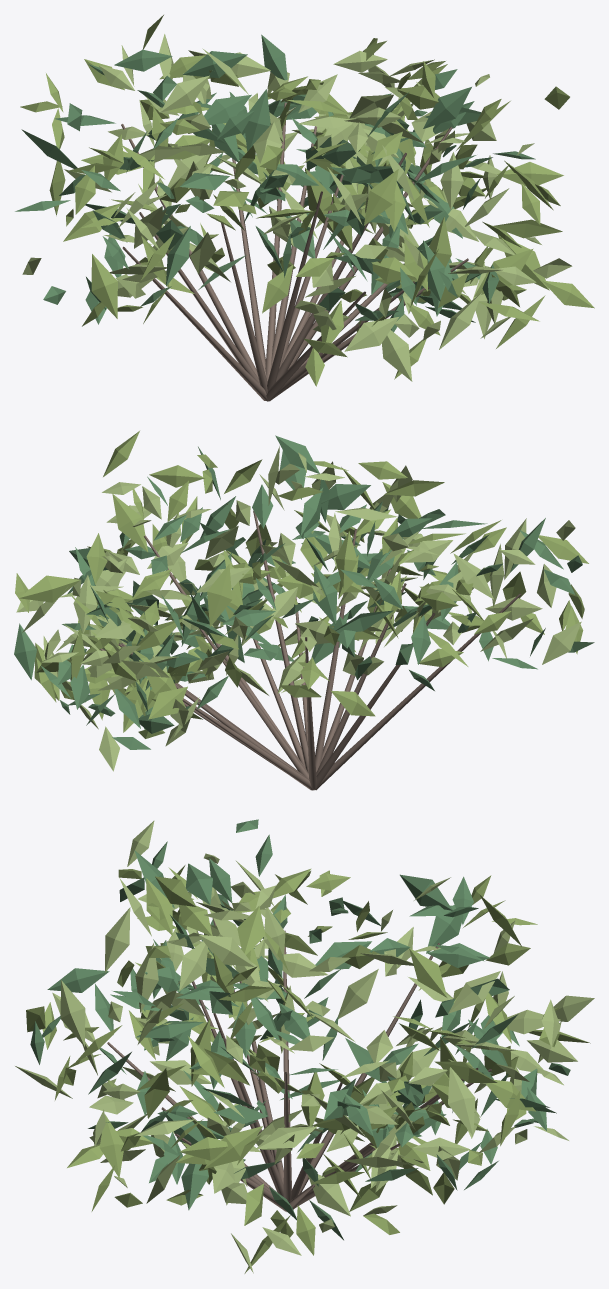
File: sakura_shrub_1.glb
3 renders of one model, top to bottom at view 1: azimuth 30°, elevation 25°; view 2: azimuth 150°, elevation 25°; view 3: azimuth 270°, elevation 25°, orthographic. The views are drawn at different scales.
Visible parts, largest first — view 1: sakura_shrub_1_SakuraLeafOlive, sakura_shrub_1_SakuraLeafSage, sakura_shrub_1_SakuraLeafDark, sakura_shrub_1_SakuraBark; view 2: sakura_shrub_1_SakuraLeafOlive, sakura_shrub_1_SakuraLeafDark, sakura_shrub_1_SakuraLeafSage, sakura_shrub_1_SakuraBark; view 3: sakura_shrub_1_SakuraLeafSage, sakura_shrub_1_SakuraLeafOlive, sakura_shrub_1_SakuraLeafDark, sakura_shrub_1_SakuraBark.
Part boxes in pixels (<box>): sakura_shrub_1_SakuraLeafOlive: <box>20,15,594,386</box>; sakura_shrub_1_SakuraLeafSage: <box>22,34,572,381</box>; sakura_shrub_1_SakuraLeafDark: <box>15,34,535,332</box>; sakura_shrub_1_SakuraBark: <box>121,102,468,401</box>; sakura_shrub_1_SakuraLeafOlive: <box>15,431,588,738</box>; sakura_shrub_1_SakuraLeafDark: <box>14,435,594,749</box>; sakura_shrub_1_SakuraLeafSage: <box>16,446,581,771</box>; sakura_shrub_1_SakuraBark: <box>100,511,521,790</box>; sakura_shrub_1_SakuraLeafSage: <box>15,820,594,1273</box>; sakura_shrub_1_SakuraLeafOlive: <box>26,865,590,1273</box>; sakura_shrub_1_SakuraLeafDark: <box>30,819,570,1240</box>; sakura_shrub_1_SakuraBark: <box>107,918,491,1211</box>.
Bounding box in the file's own units: 1.98 × 1.1 × 1.82.
